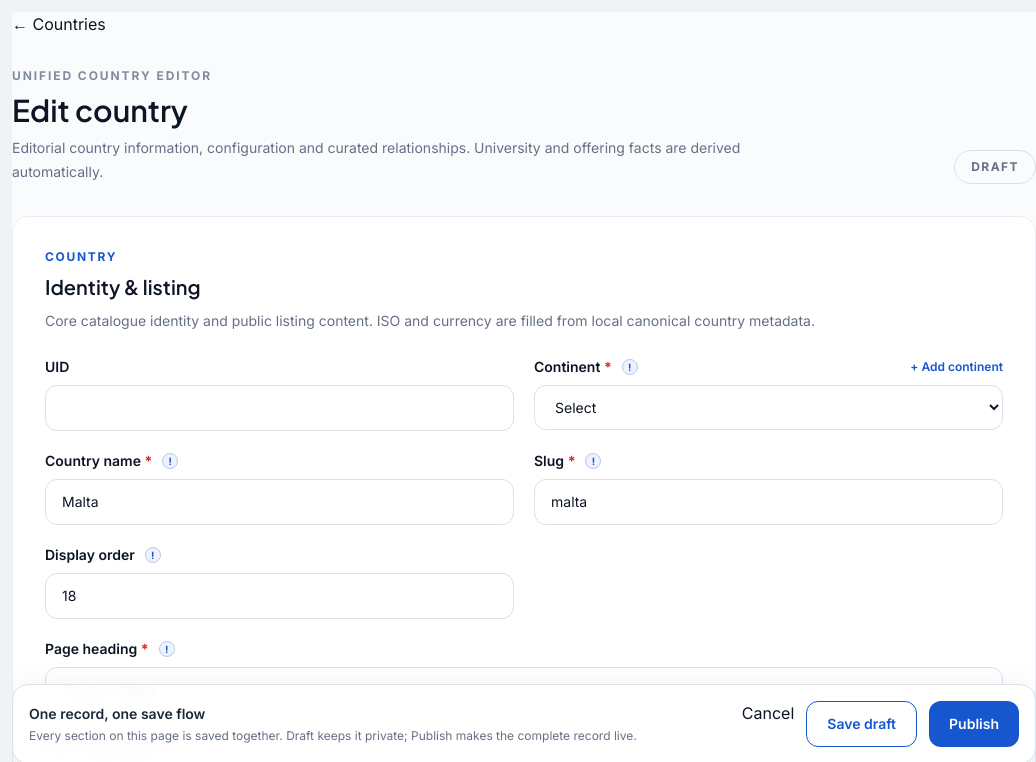
Scenario: country editor save and publish flow › does not redirect or confirm when a draft save fails
Expected: the field showing "Malta" is shown, [45,479,514,525]
Click the button "Save draft". click: (862, 724)
box: [806,701,917,747]
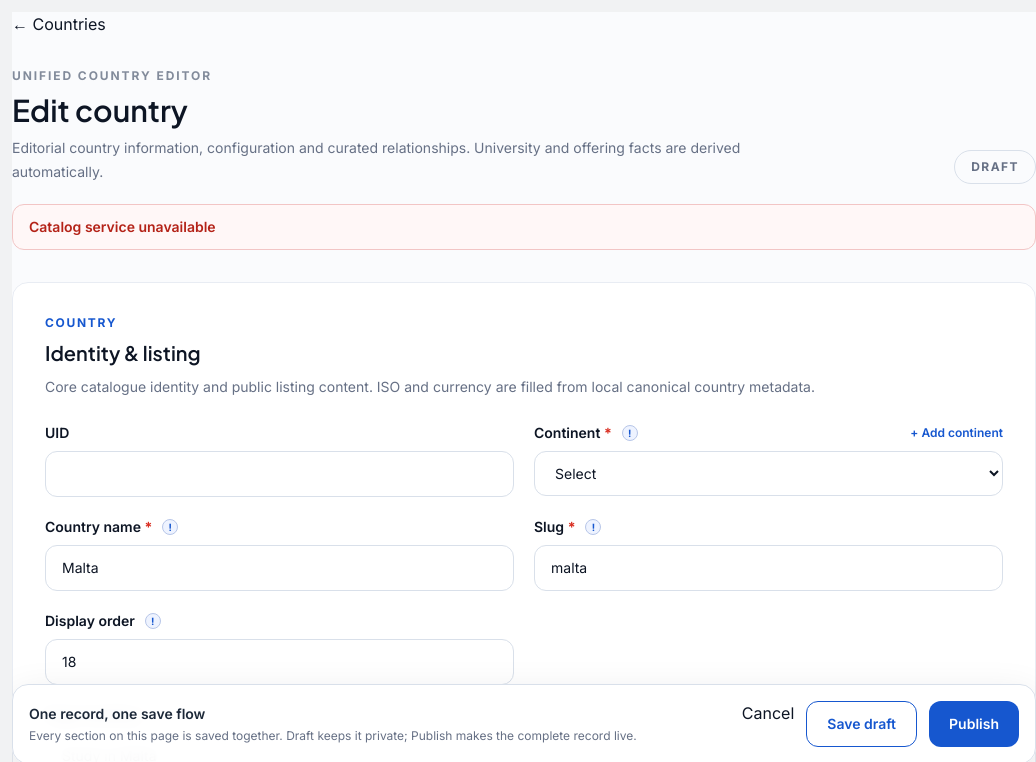
Now the message reads "Catalog service unavailable", box [29,218,216,235]
